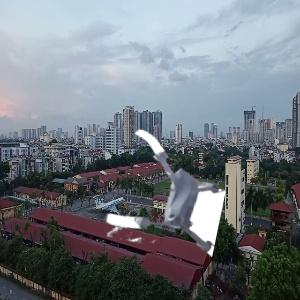drone: (107, 130, 227, 250)
